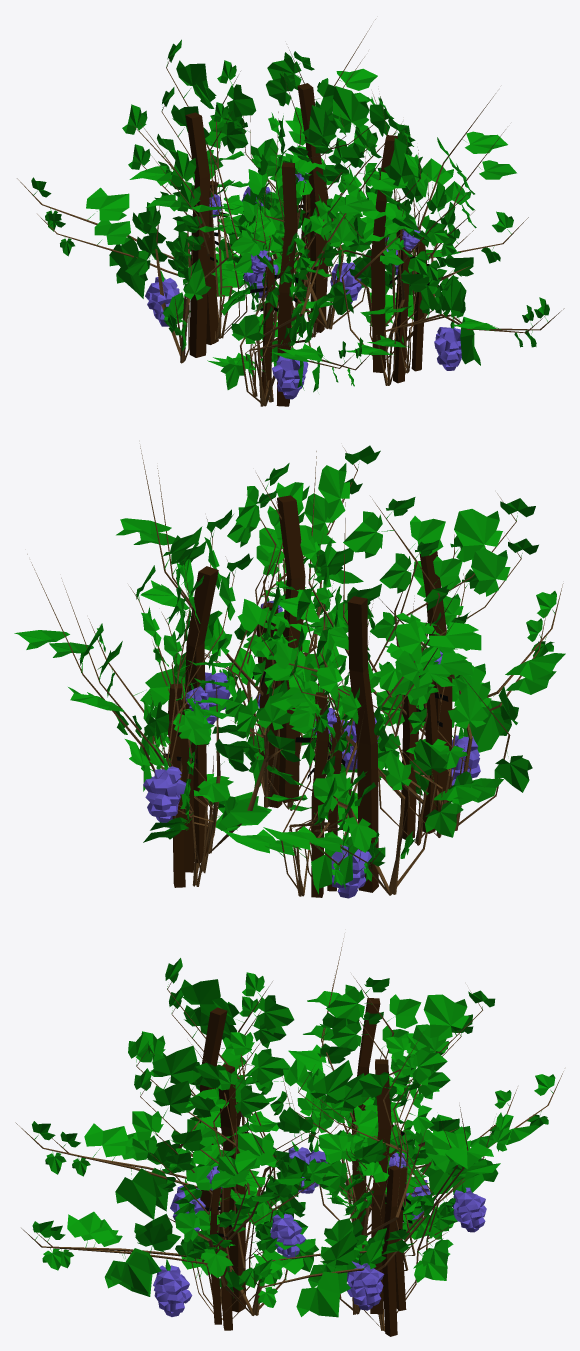
Rendered from grape.glb.
The picture shows the model from 3 angles, top to bottom: view 1: azimuth 30°, elevation 25°; view 2: azimuth 150°, elevation 25°; view 3: azimuth 270°, elevation 25°; orthographic projection. The views are drawn at different scales.
Parts seen in each view (by area): view 1: grape_2, grape_3, grape_1; view 2: grape_2, grape_3, grape_1; view 3: grape_2, grape_3, grape_1.
Boxes of the visible parts, x1,y1,x2,y2 form: grape_2: [17, 19, 564, 402]; grape_3: [37, 57, 544, 399]; grape_1: [125, 83, 473, 406]; grape_2: [14, 445, 565, 897]; grape_3: [49, 468, 556, 898]; grape_1: [167, 495, 532, 895]; grape_2: [15, 938, 563, 1336]; grape_3: [37, 975, 517, 1324]; grape_1: [164, 998, 459, 1315].
Size of the model in its own units: 3.78 by 2.97 by 4.7.
